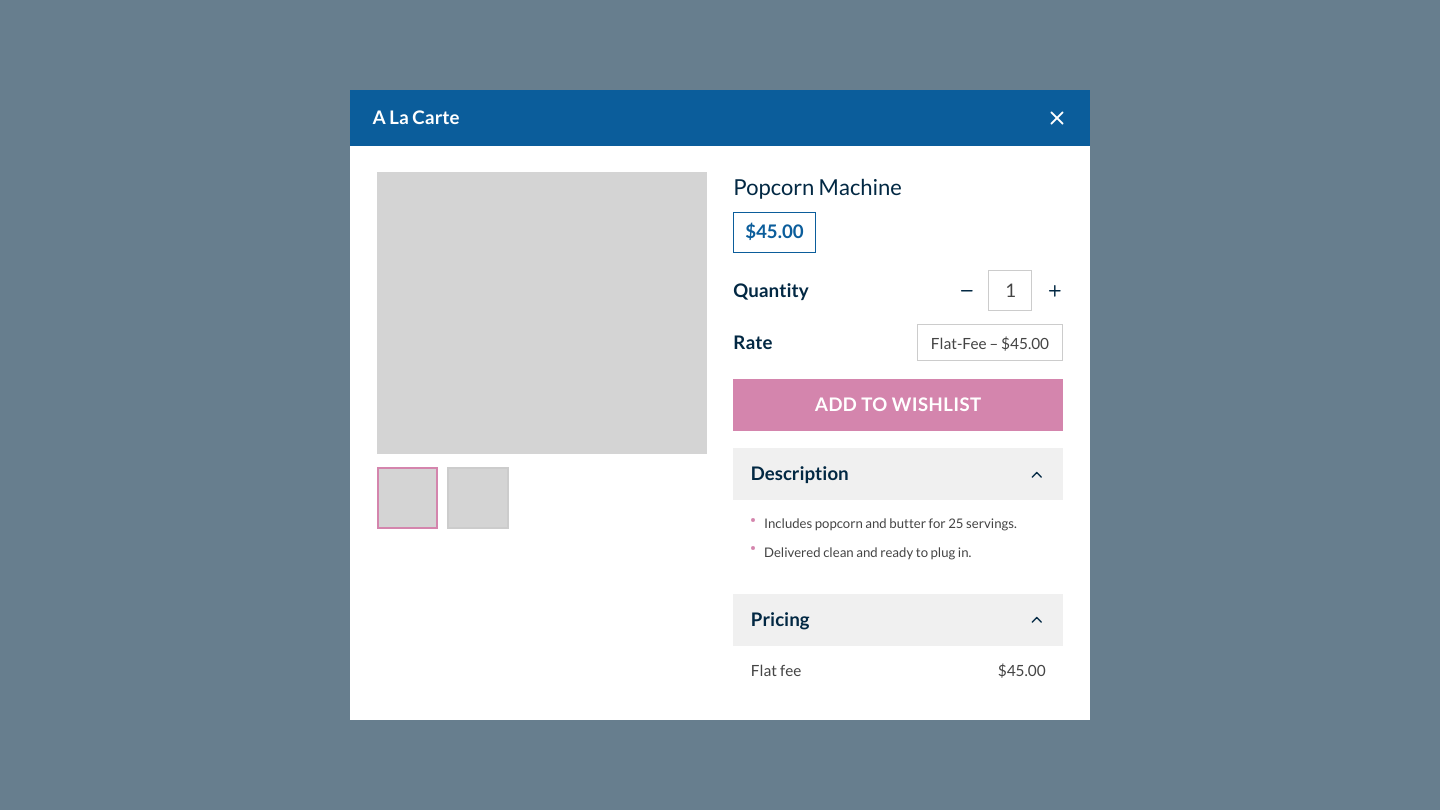
Test case: CatalogItemModal › shows a Remove From Wishlist control once the item is saved, alongside the persistent Add button
Expected: the button "Remove From Wishlist" is not shown
Click the button "Add To Wishlist". click: (898, 405)
box: [733,379,1063,431]
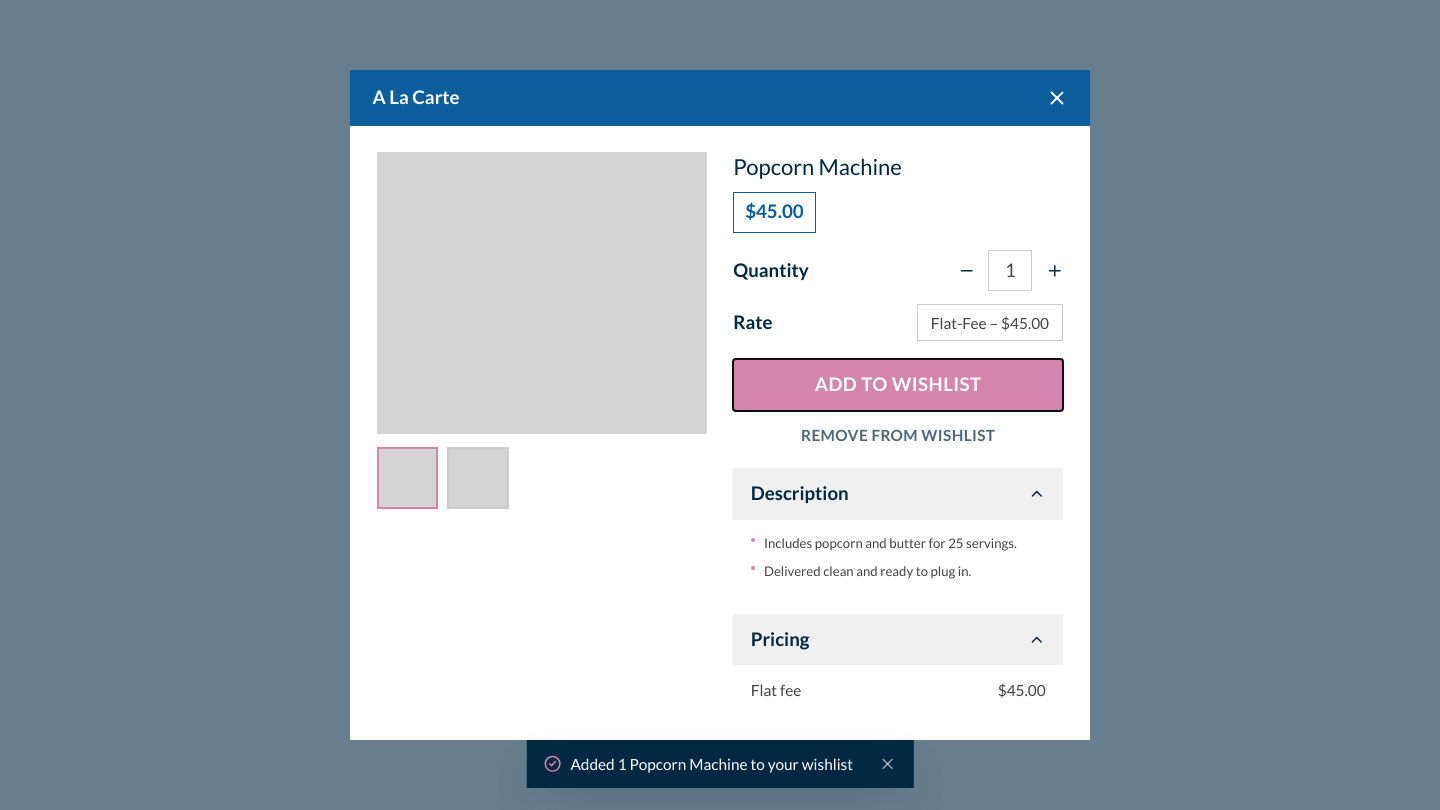
Expected: the button "Add To Wishlist" is shown, [733,359,1063,411]
Result: the button "Remove From Wishlist" is shown at [733,420,1063,451]
